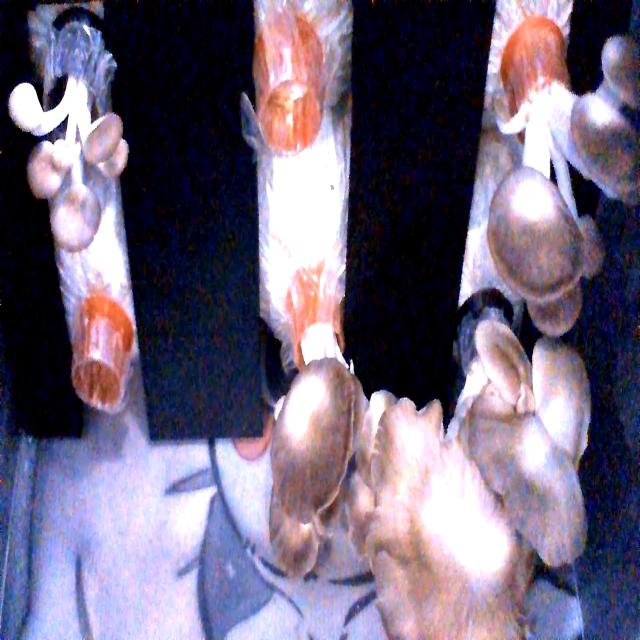big: (368, 335, 600, 640), (477, 40, 640, 333), (264, 334, 394, 582)
nfound: (61, 334, 146, 441), (252, 54, 324, 164)
small: (0, 61, 131, 249)
